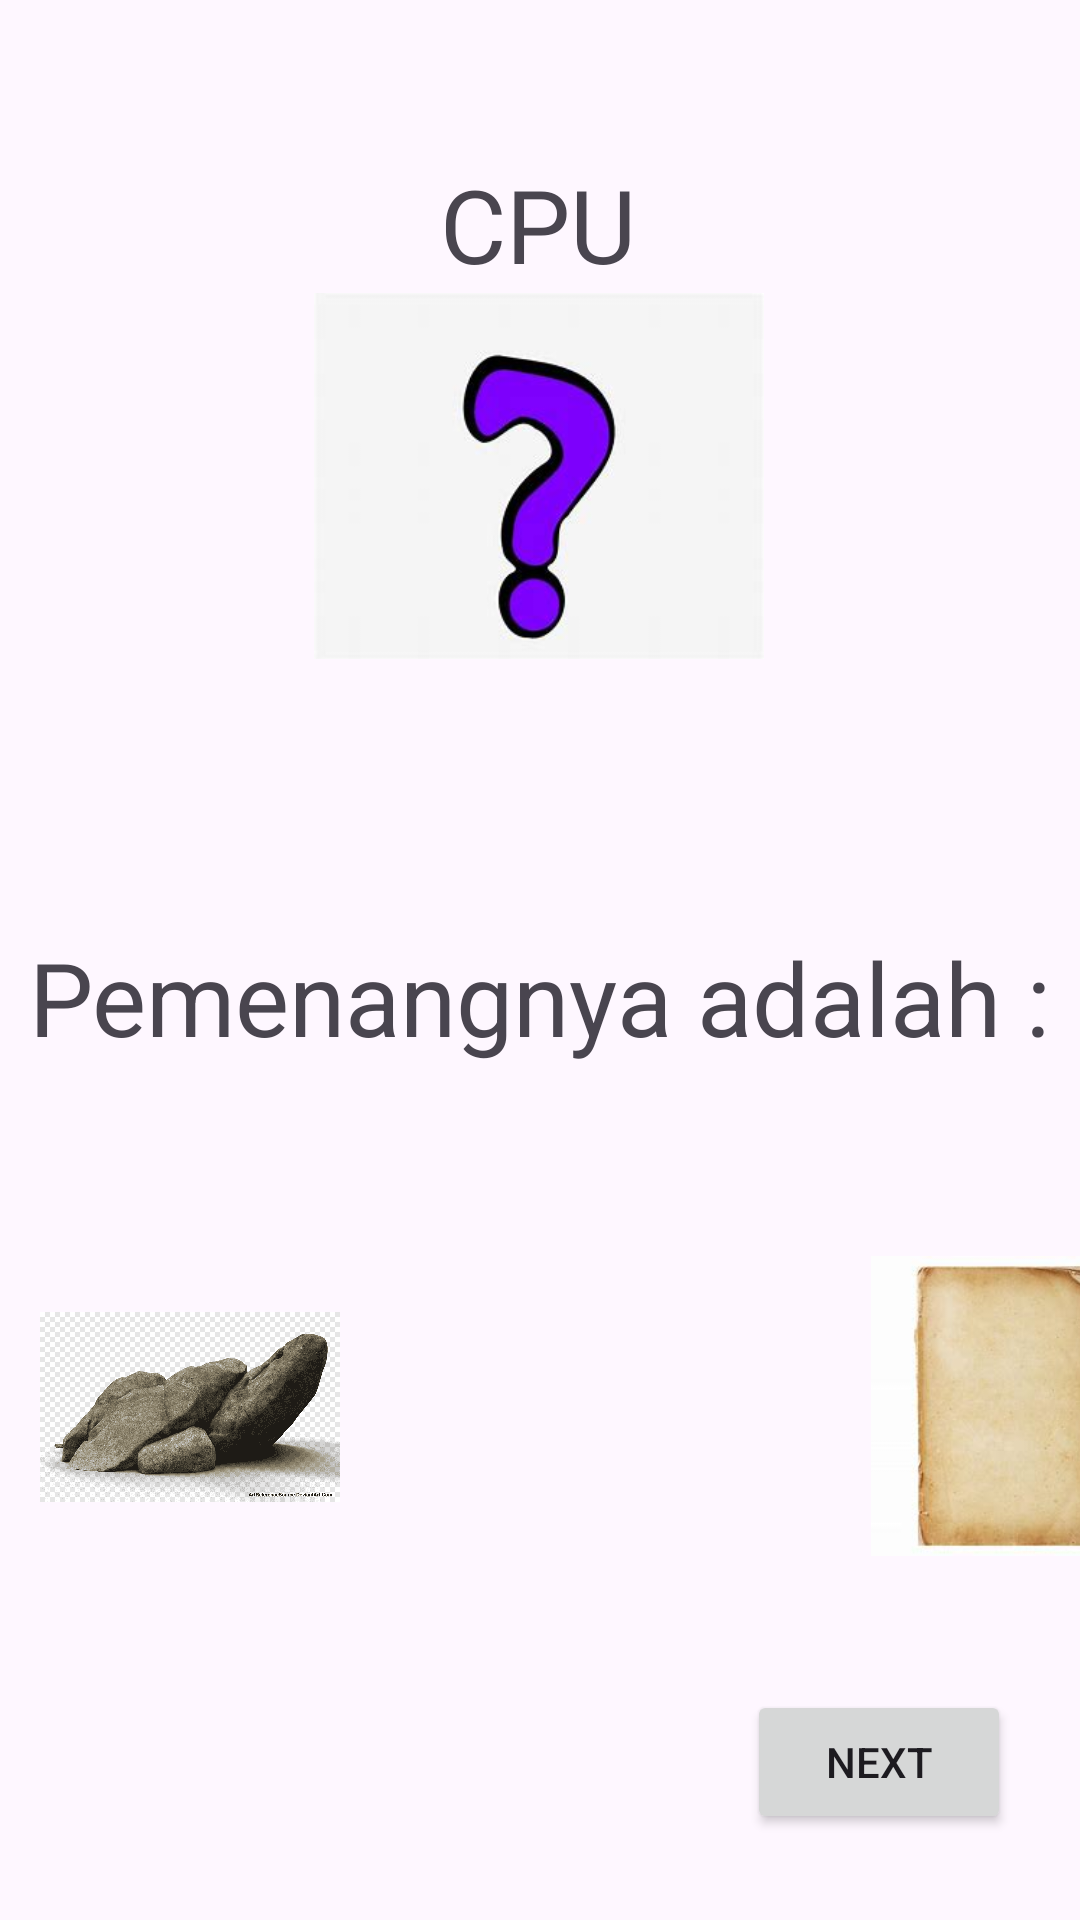

Screen size 1080px x 1920px. Icon name, then its center in pixels as [x,y]:
batu: [190,1407]
tandatanya: [539,495]
